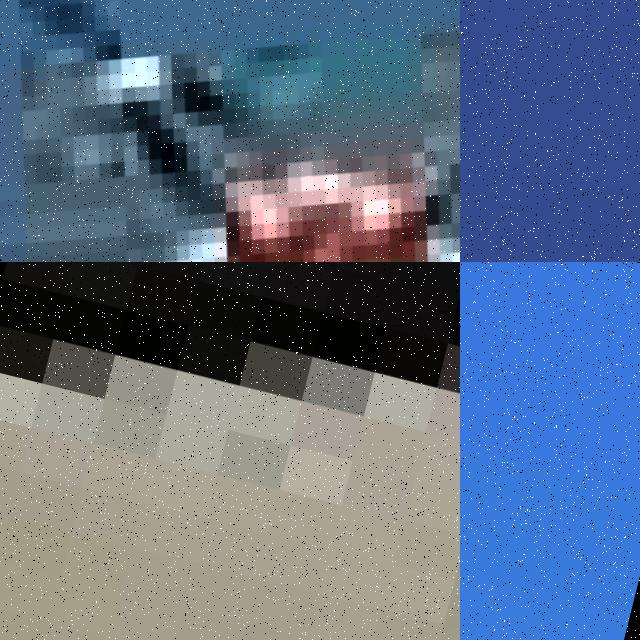drone: (0, 0, 460, 262)
